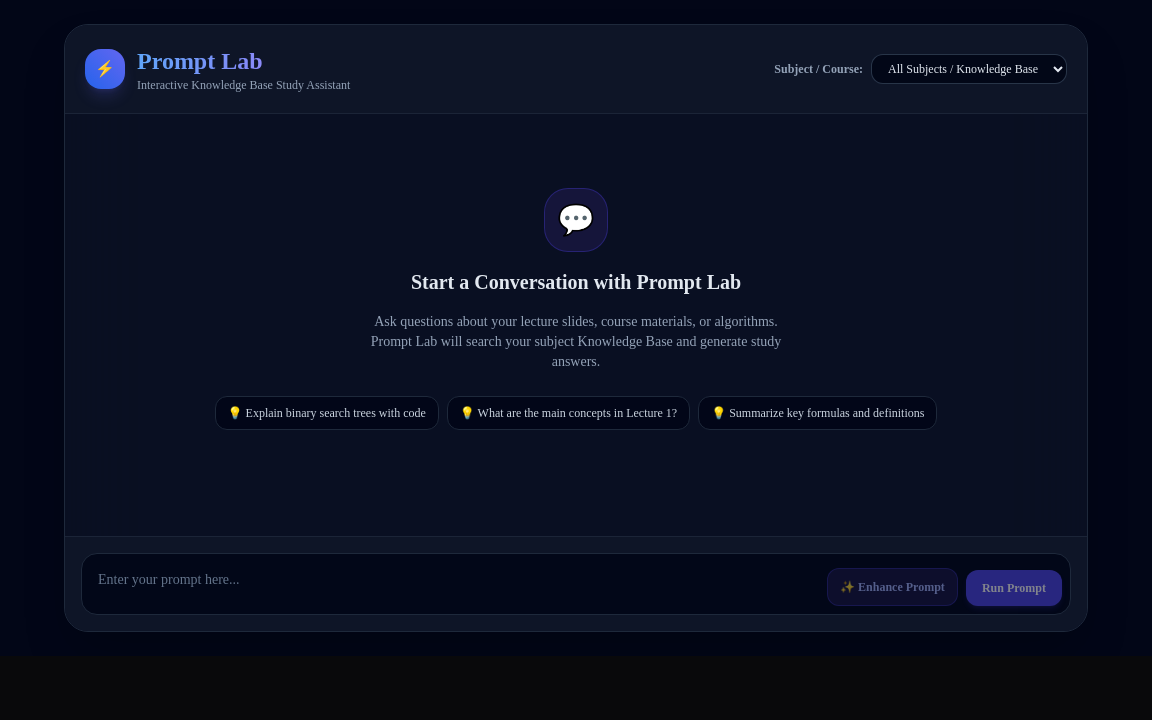
Test: PromptLab UI Tests › restyles prompt when clicking Enhance Prompt button
(page scrolled)
In the text box with placeholder "Enter your prompt here...": (455, 584) [90,562,819,606], type "tell me about graphs"
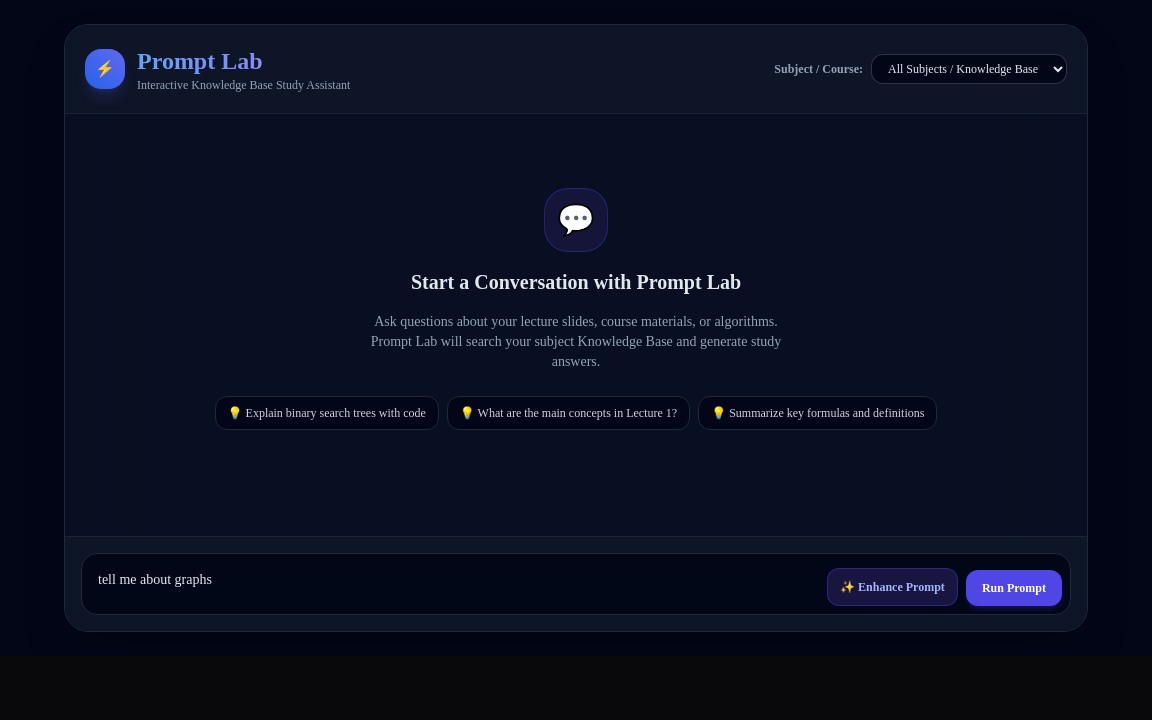
Click the button "✨ Enhance Prompt": click(892, 587) [827,568,958,606]
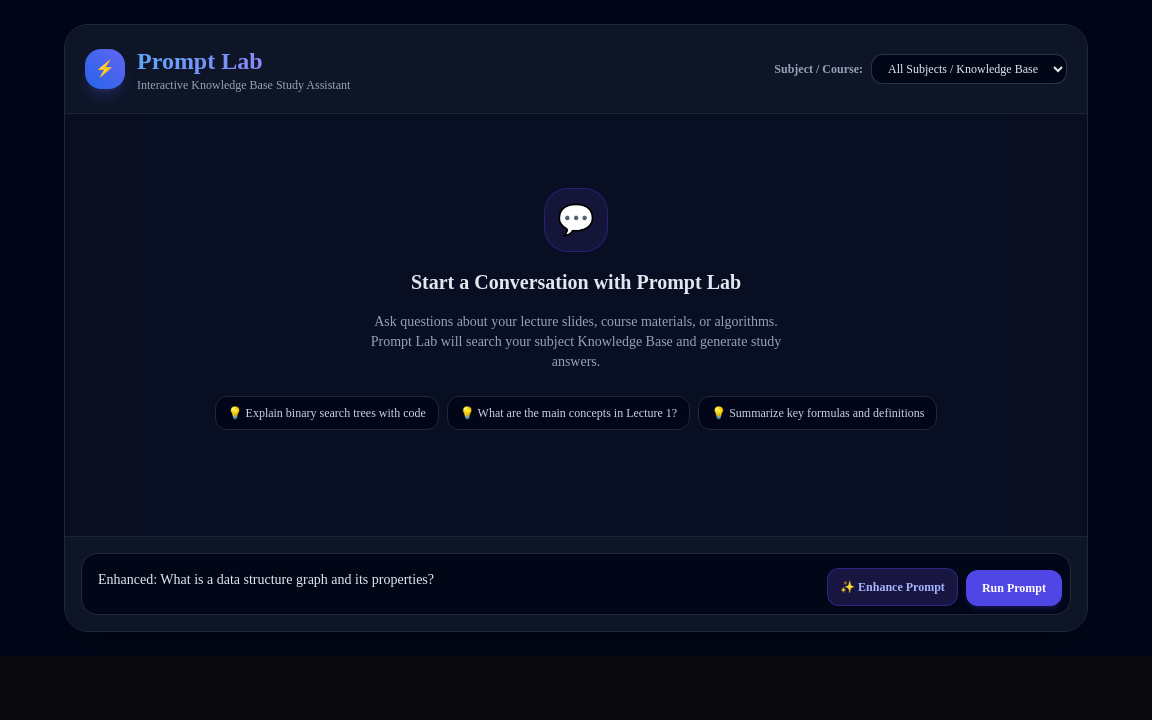
Result: the text box with placeholder "Enter your prompt here..." holds "Enhanced: What is a data structure graph and its properties?" at [90,562,819,606]
